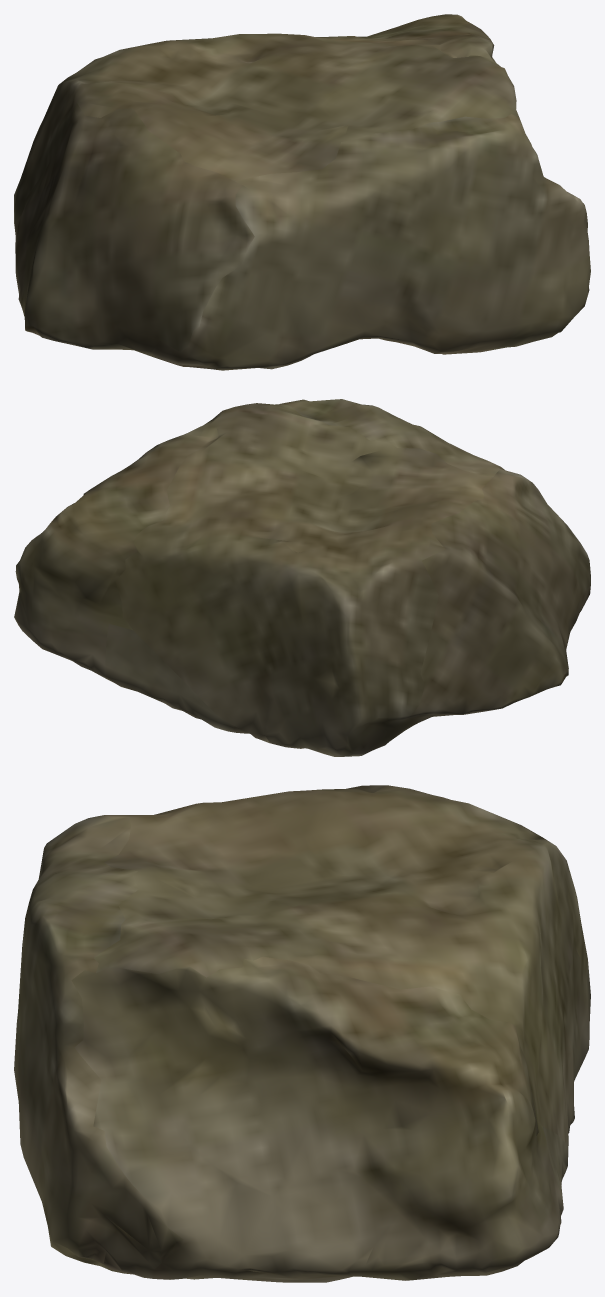
The picture shows the model from 3 angles, top to bottom: view 1: azimuth 30°, elevation 25°; view 2: azimuth 150°, elevation 25°; view 3: azimuth 270°, elevation 25°; orthographic projection. The views are drawn at different scales.
Visible parts, largest first — view 1: rock_moss_set_02__a_lod1; view 2: rock_moss_set_02__a_lod1; view 3: rock_moss_set_02__a_lod1.
Boxes of the visible parts, box(x1,y1,x2,y2) form: rock_moss_set_02__a_lod1: box(14, 14, 590, 370); rock_moss_set_02__a_lod1: box(14, 399, 590, 756); rock_moss_set_02__a_lod1: box(14, 785, 590, 1282).
Size of the model in its own units: 1.69 by 0.7443 by 1.22.
1 material, 1 textured.
